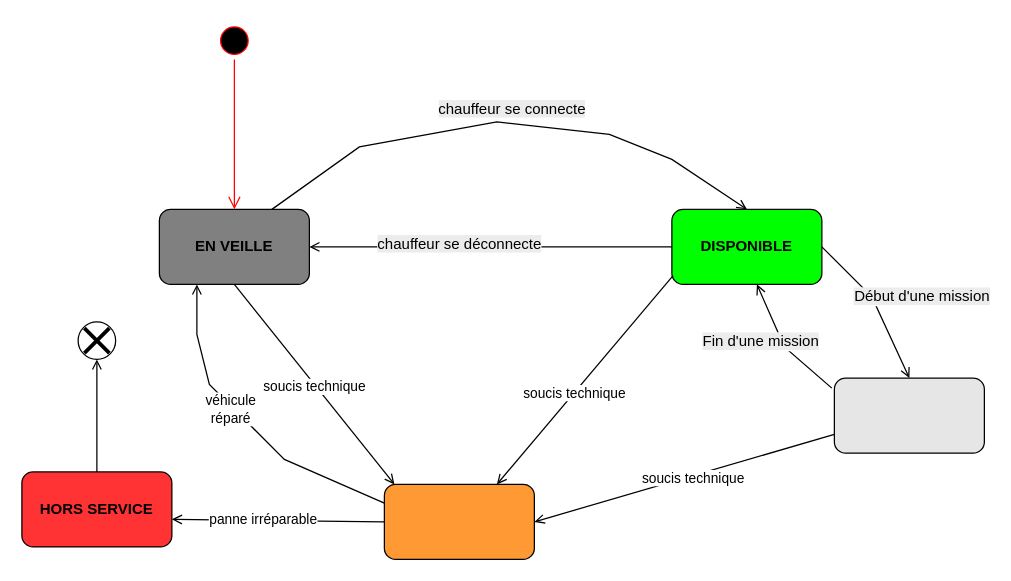
This 1011x581 diagram has some shape labels left out. Here are the shapes that lost their labels. From the top down, the centre of each, then its label:
the point at 908,415: TRANSIT
the point at 458,521: INDISPONIBLE
